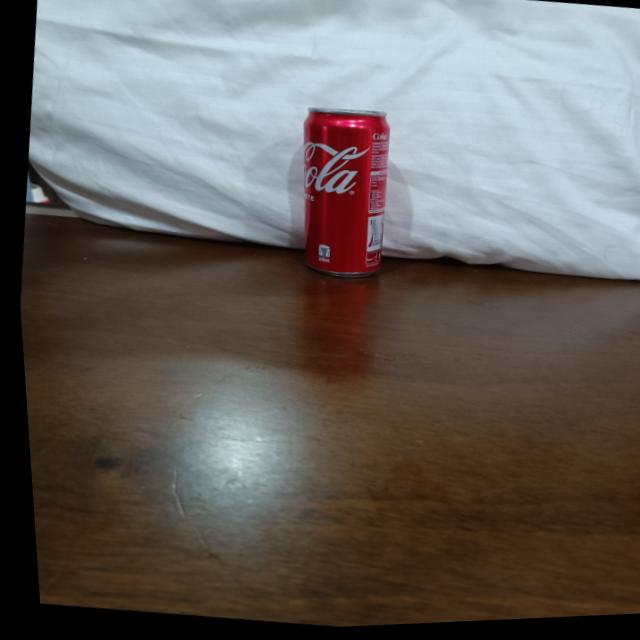coke: (283, 104, 396, 287)
